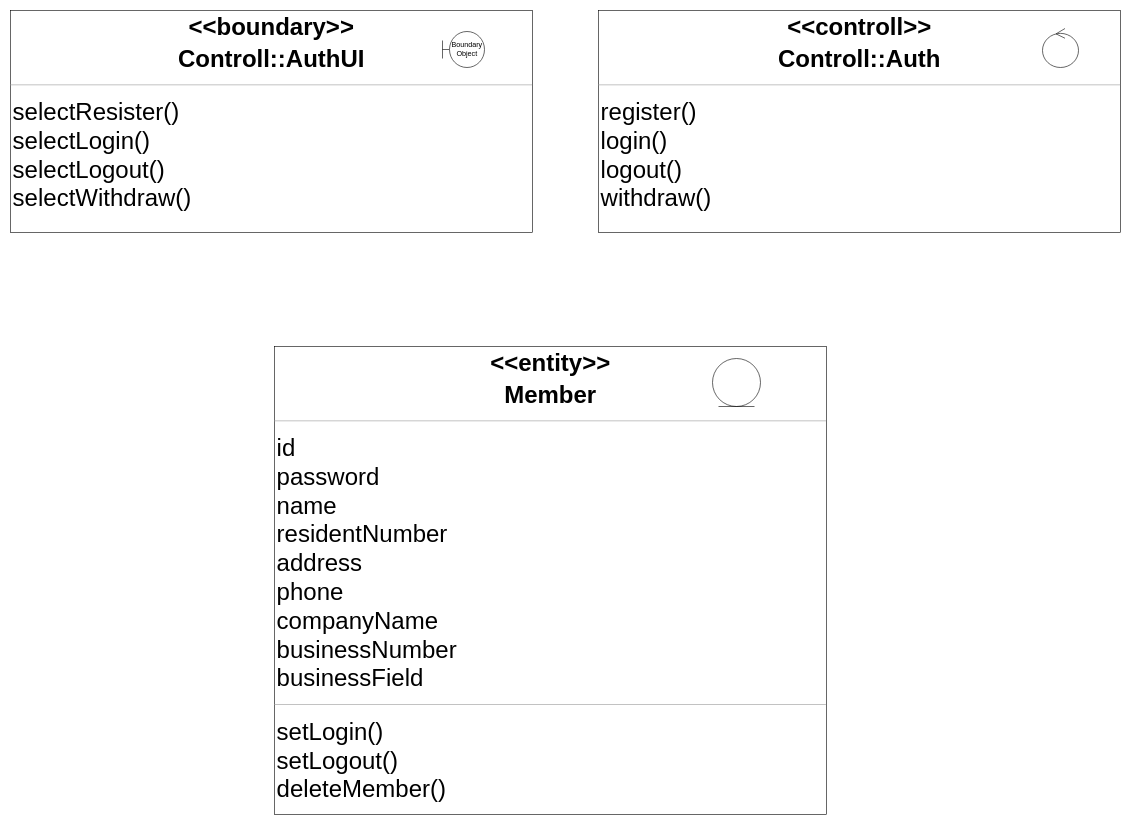
Image size: 1131x825. Some labels were removed from this diagram. The shapes that lost their labels are listed below. From the top down, each one's box as (x1, y1, x2, y2) in pixels, then its label:
(1042, 28, 1078, 68): Control Object
(712, 358, 760, 406): Entity Object
